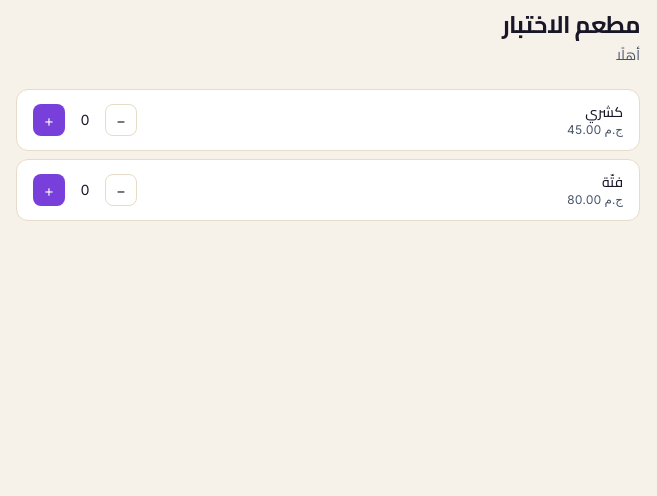
placing an order › gives the customer their tracking link
Click the button named "إضافة كشري" at coordinates (49, 120), box [33, 104, 65, 136]
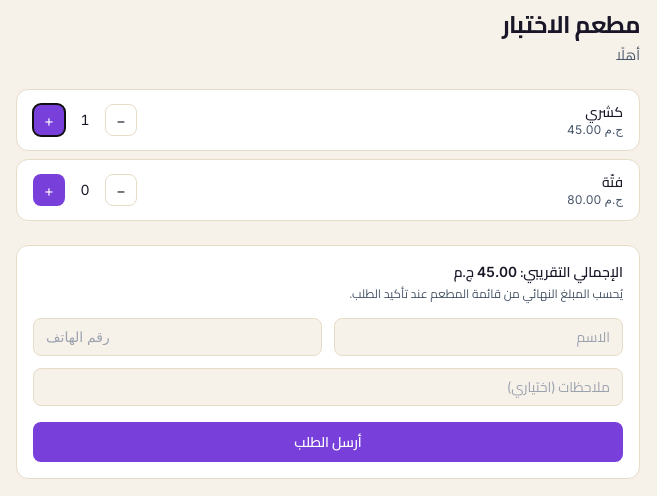
Type "أحمد" into the field labelled "الاسم" at coordinates (478, 337), box [334, 318, 623, 356]
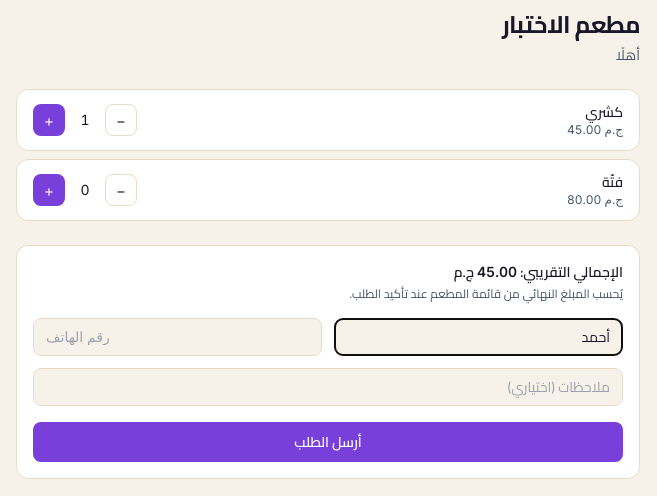
Type "01000000000" into the field labelled "رقم الهاتف" at coordinates (178, 337), box [33, 318, 322, 356]
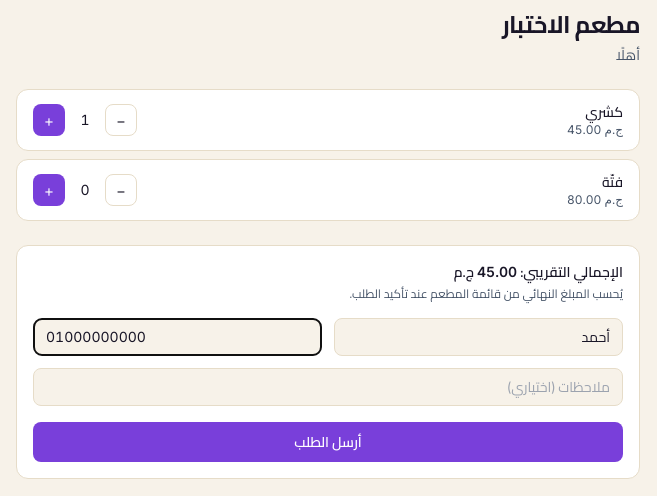
Click the button with test id "place-order" at coordinates (328, 442), box [33, 422, 623, 462]
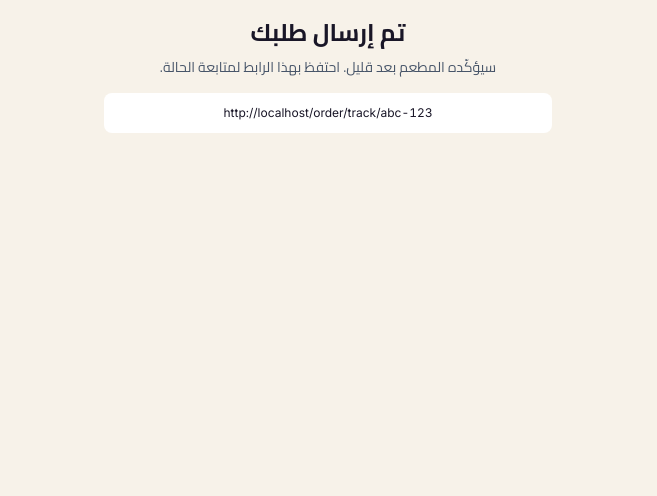
Result: the text "http://localhost/order/track/abc-123" is shown at [104, 93, 552, 133]
